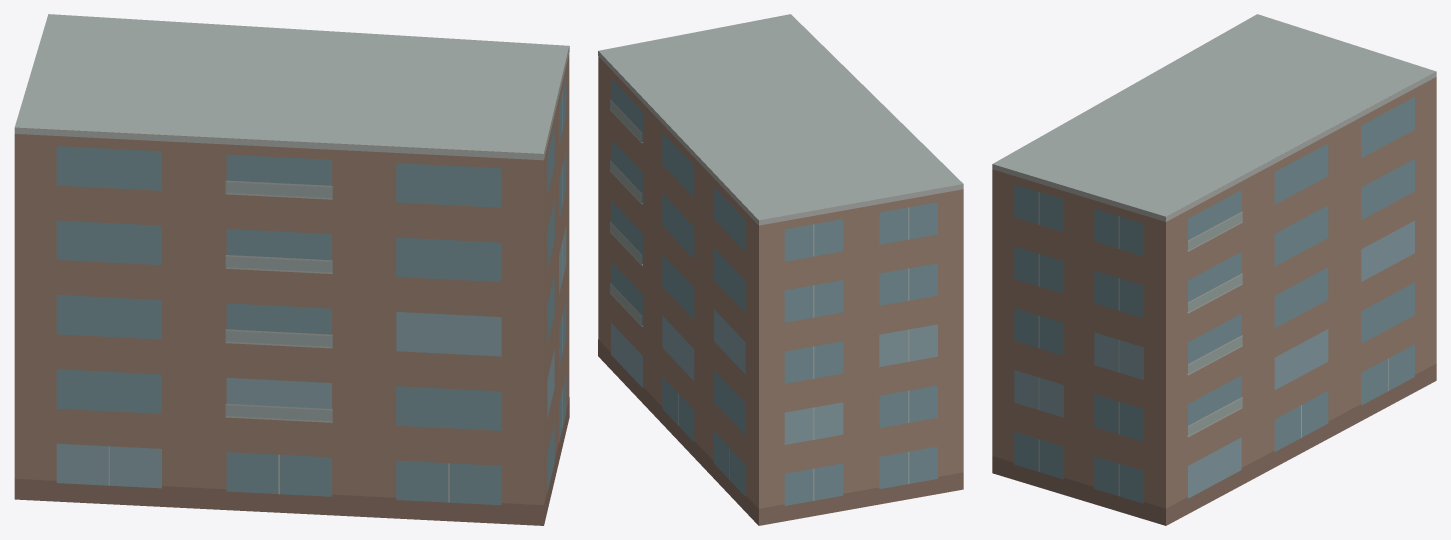
Rendered from survey-upis-32767709.glb.
3 views of the same model, side by side, from view 1: azimuth 30°, elevation 25°; view 2: azimuth 150°, elevation 25°; view 3: azimuth 270°, elevation 25° (orthographic). The views are drawn at different scales.
Visible parts, largest first — view 1: survey-upis-32767709.tmp; view 2: survey-upis-32767709.tmp; view 3: survey-upis-32767709.tmp.
Part boxes in pixels (x1,y1,x2,y2): survey-upis-32767709.tmp: [14, 14, 569, 525]; survey-upis-32767709.tmp: [598, 14, 963, 525]; survey-upis-32767709.tmp: [992, 14, 1436, 525].
Bounding box in the file's own units: 20.12 × 14.3 × 18.63.
